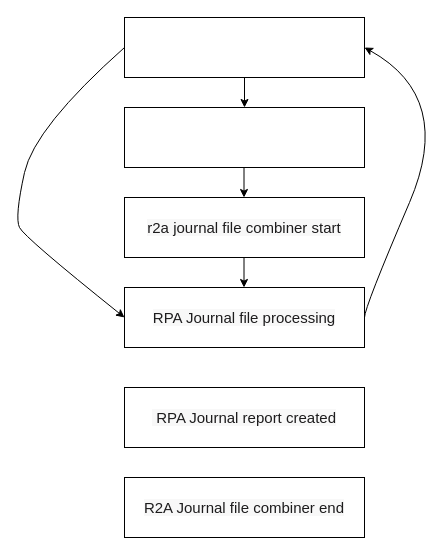
Image size: 443x555. Some labels were removed from this diagram. Each missing label, with the centre of its shape:
"R2A Journal Job Startup" goes at (x=244, y=137).
"RPA Journal file processing startup" goes at (x=244, y=47).
